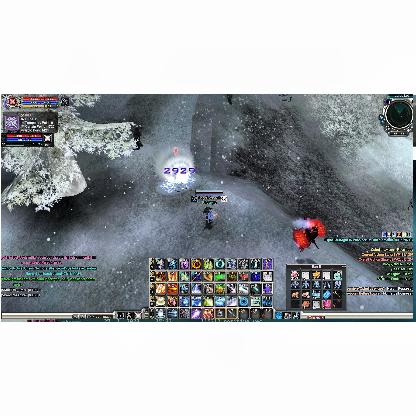caliana: (132, 125, 144, 145)
